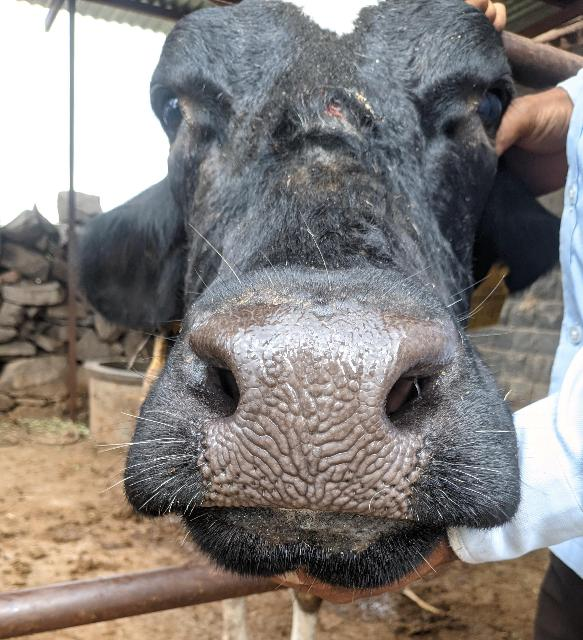Muzzle: (218, 316, 403, 502)
